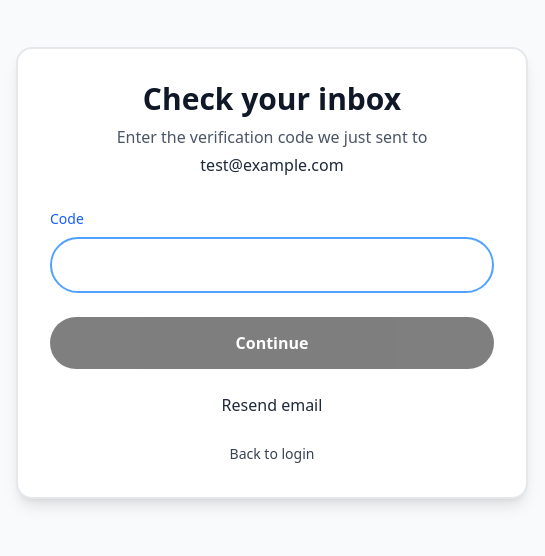
Test: ValidateResetCodePage › shows fallback error when verify fails without message
The width and height of the screenshot is (545, 556).
Type "123456" into the field labelled "Code". click: {"x": 272, "y": 265}
box: [50, 237, 494, 293]
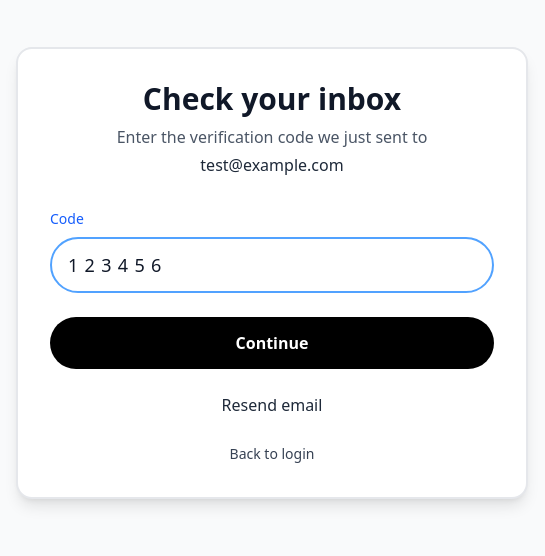
Click the button "Continue". click: {"x": 272, "y": 343}
box: [50, 317, 494, 369]
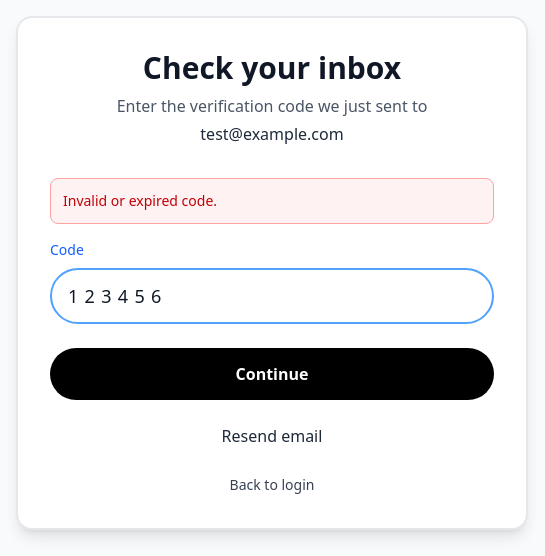
Check: the text "Invalid or expired code." is shown, box [50, 178, 494, 224]
